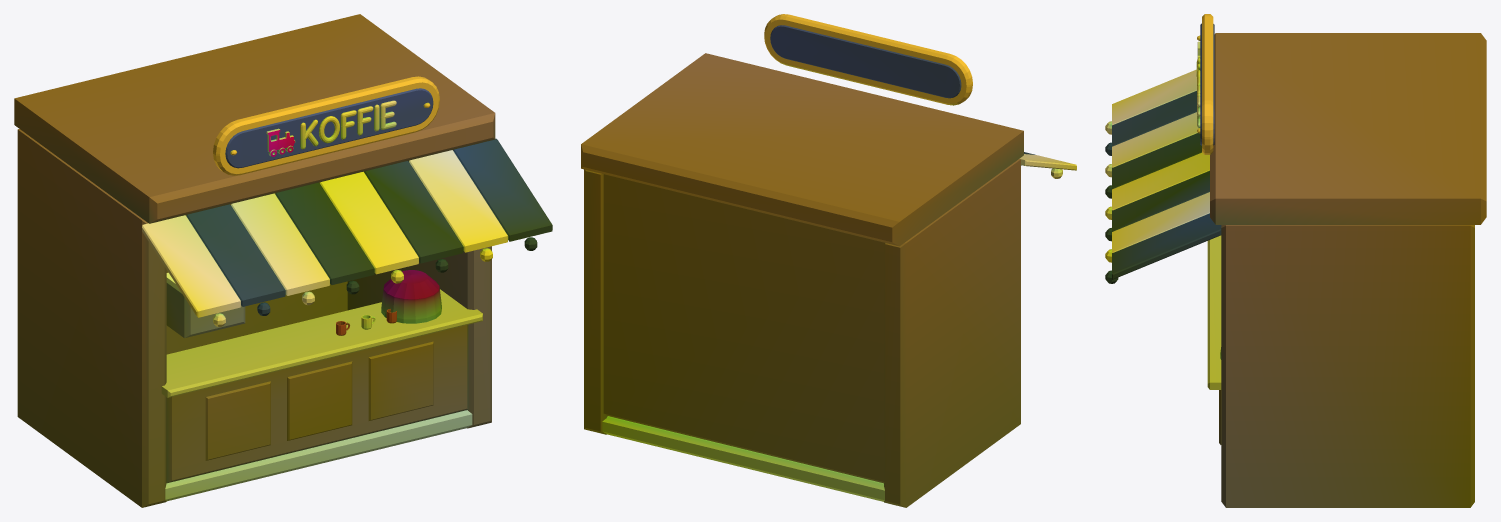
The model's file is GS_Kiosk.fbx.
The picture shows the model from 3 angles, left to right: view 1: azimuth 30°, elevation 25°; view 2: azimuth 150°, elevation 25°; view 3: azimuth 270°, elevation 25°; orthographic projection. The views are drawn at different scales.
Parts seen in each view (by area): view 1: GS_Kiosk, Sign_Kiosk_Text; view 2: GS_Kiosk; view 3: GS_Kiosk.
Boxes of the visible parts, bbox=[...] form: GS_Kiosk: bbox=[14, 14, 552, 507]; Sign_Kiosk_Text: bbox=[300, 100, 396, 149]; GS_Kiosk: bbox=[581, 14, 1076, 507]; GS_Kiosk: bbox=[1105, 14, 1486, 507].
Size of the model in its own units: 3.5 by 3.5 by 3.31.
